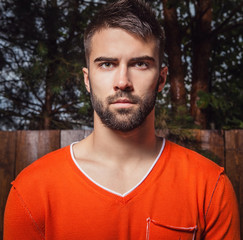young: (77, 7, 176, 139)
